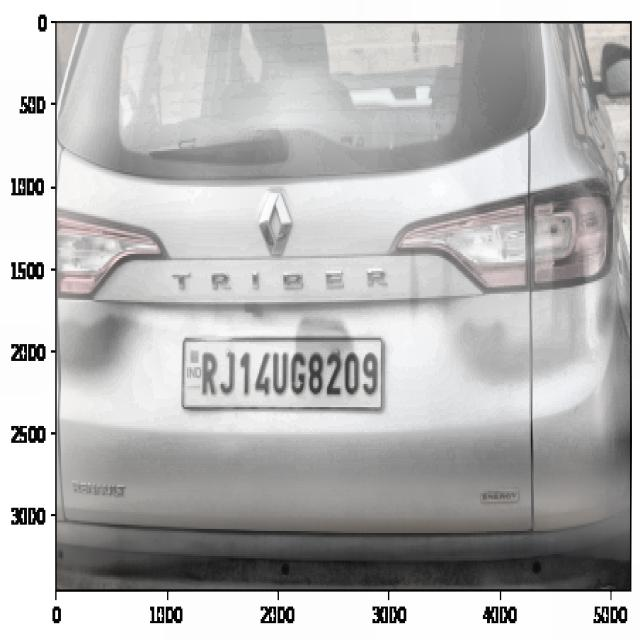license_plate: (192, 340, 382, 410)
